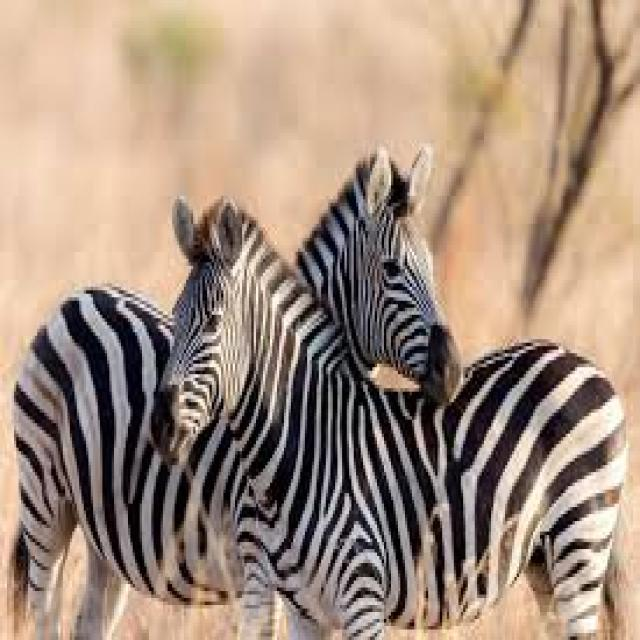Zebra: (11, 154, 458, 640), (152, 200, 627, 640)
